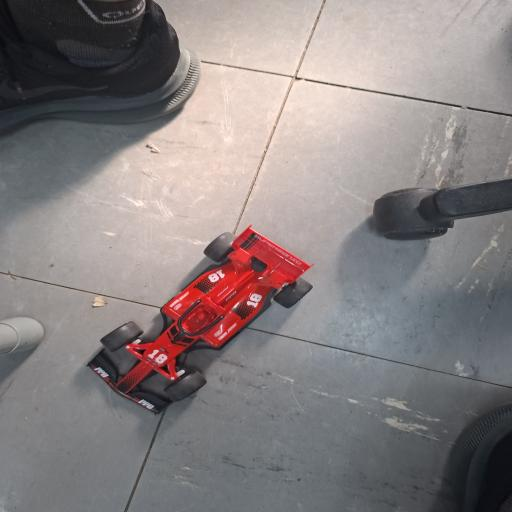carro: (89, 227, 312, 412)
